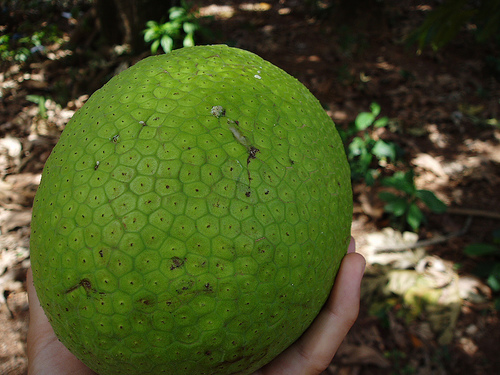jackfruit: (28, 45, 350, 369)
